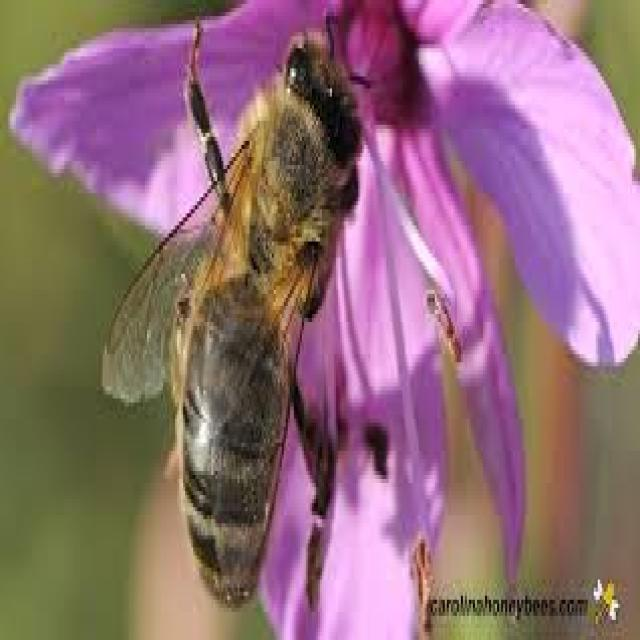Bees: (102, 12, 374, 617)
